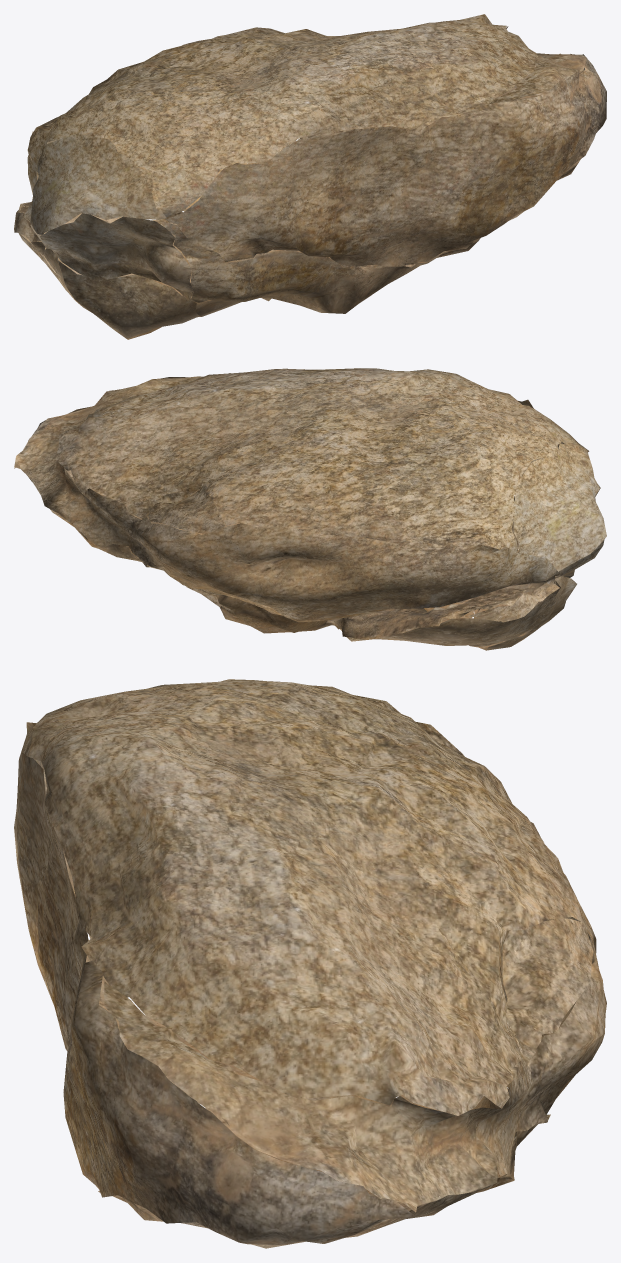
The picture shows the model from 3 angles, top to bottom: view 1: azimuth 30°, elevation 25°; view 2: azimuth 150°, elevation 25°; view 3: azimuth 270°, elevation 25°; orthographic projection. The views are drawn at different scales.
Visible parts, largest first — view 1: lod0; view 2: lod0; view 3: lod0.
Boxes of the visible parts, bbox=[...] form: lod0: bbox=[14, 14, 606, 339]; lod0: bbox=[14, 368, 606, 650]; lod0: bbox=[14, 679, 606, 1248].
Size of what is drawn, in the model's own units: 1.36 by 0.5323 by 0.7409.
Materials: 1 (1 with a texture image).
